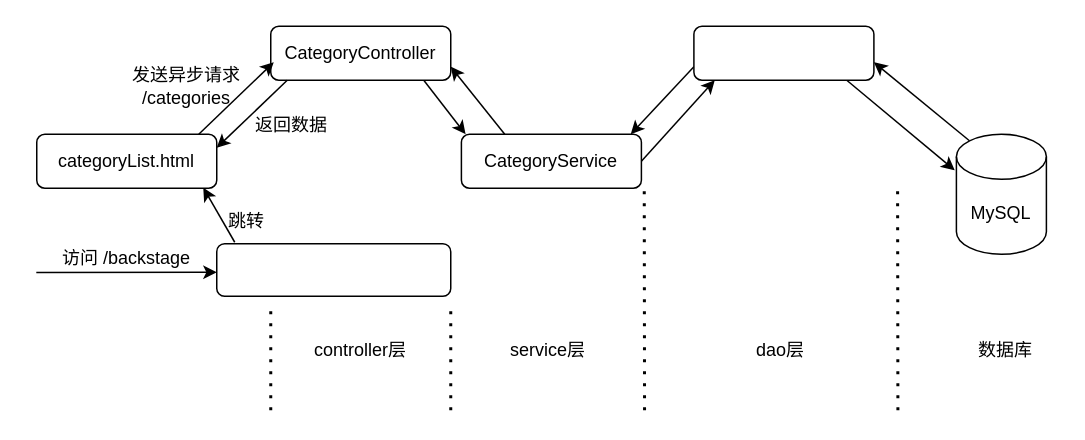
Image size: 1085x440. Some labels were removed from this diagram. Here are the shapes that lost their labels. From the top down, the centre of each, then its label:
At pixel 783 52: "CategoryDAO".
At pixel 333 269: "BackstagePageController".
